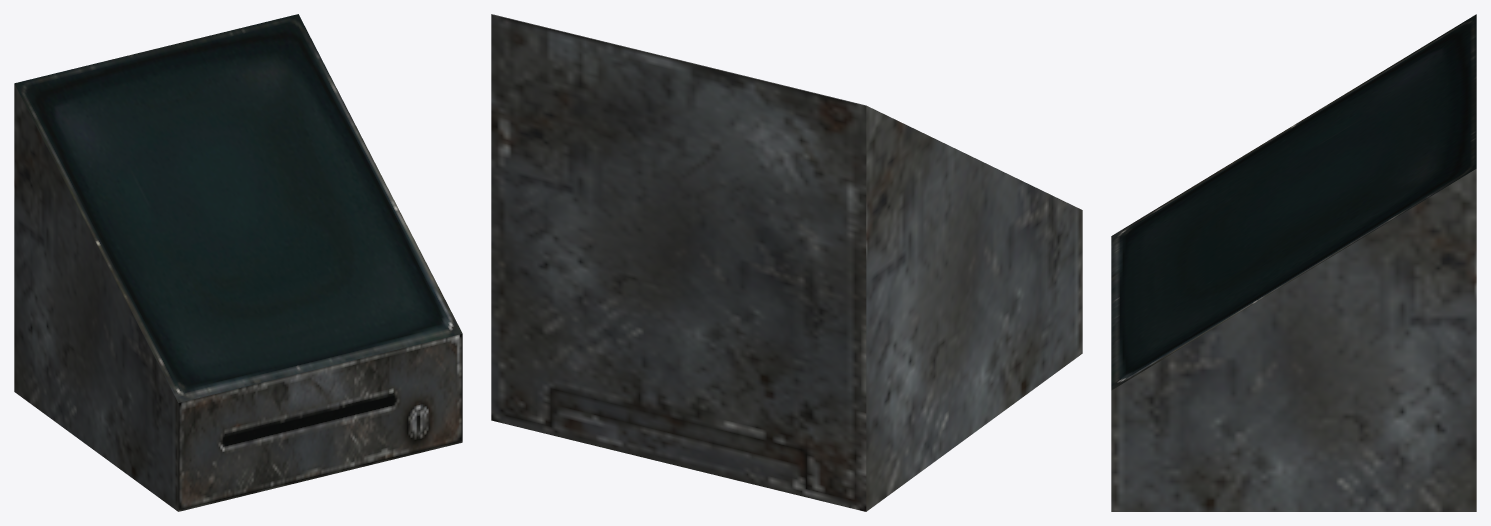
File: scifiCashregister.fbx
3 renders of one model, left to right at view 1: azimuth 30°, elevation 25°; view 2: azimuth 150°, elevation 25°; view 3: azimuth 270°, elevation 25°, orthographic. The views are drawn at different scales.
Parts seen in each view (by area): view 1: Cube; view 2: Cube; view 3: Cube.
Boxes of the visible parts, x1,y1,x2,y2 form: Cube: (14, 14, 462, 511); Cube: (491, 14, 1082, 511); Cube: (1111, 14, 1476, 511).
Size of the model in its own units: 41 by 42.5 by 41.
Materials: 1 (1 with a texture image).
